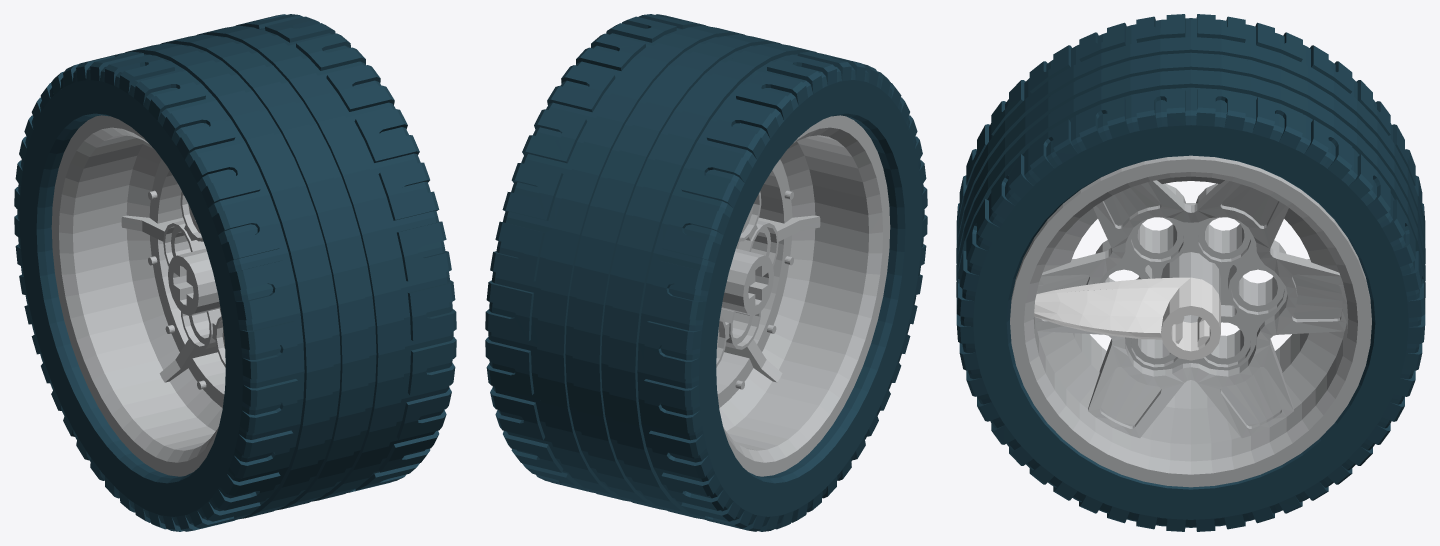
Rendered from Wheel.dae.
3 renders of one model, left to right at view 1: azimuth 30°, elevation 25°; view 2: azimuth 150°, elevation 25°; view 3: azimuth 270°, elevation 25°, orthographic. The views are drawn at different scales.
Parts seen in each view (by area): view 1: Piece047; view 2: Piece047; view 3: Piece047.
Part boxes in pixels (bbox=[...]): Piece047: bbox=[14, 14, 456, 531]; Piece047: bbox=[485, 14, 927, 531]; Piece047: bbox=[956, 14, 1425, 531].
Bounding box in the file's own units: 0.031 × 0.056 × 0.056.
